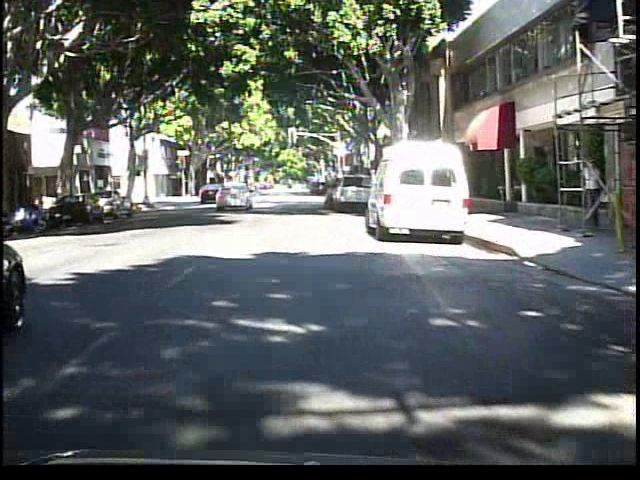person: (574, 155, 603, 235), (244, 175, 261, 206)
